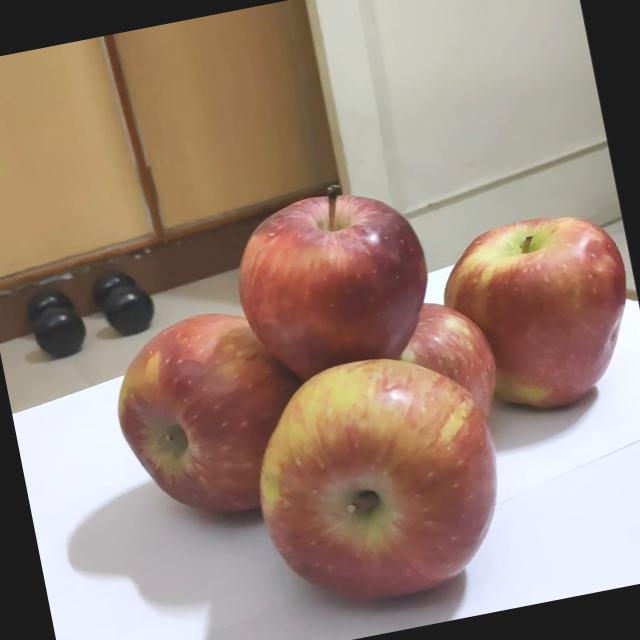apple: (268, 312, 571, 618), (111, 285, 346, 533), (246, 150, 480, 396), (430, 180, 640, 415)
